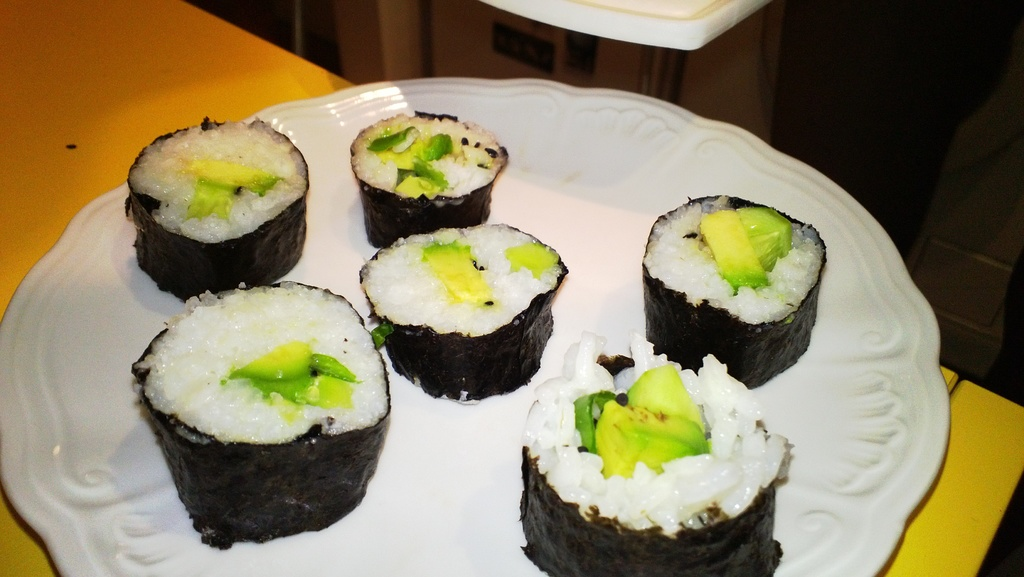sushi: (522, 335, 783, 576), (141, 306, 377, 556), (360, 221, 564, 405), (644, 194, 826, 387), (123, 118, 308, 299), (351, 111, 506, 245)
